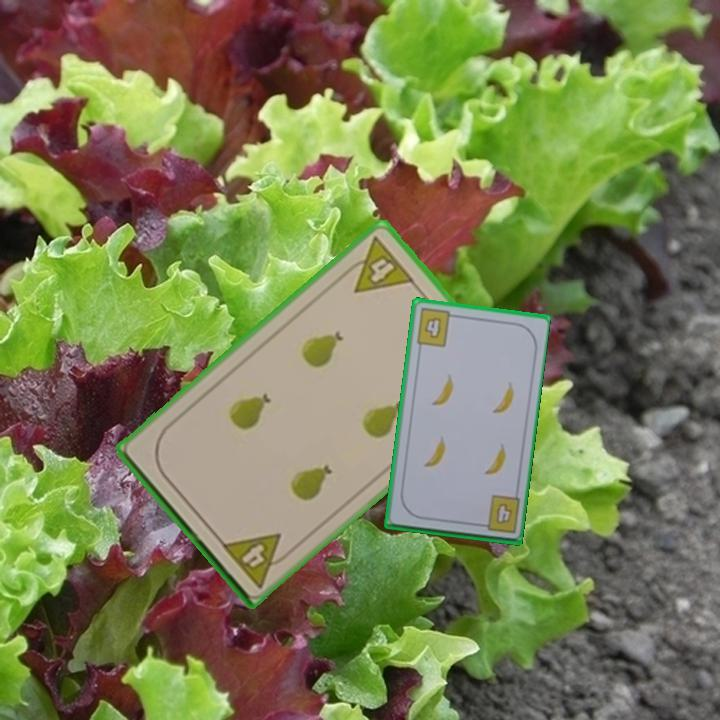4b: (474, 492, 522, 536), (413, 305, 459, 350)
4p: (337, 233, 418, 296), (217, 529, 296, 591)
